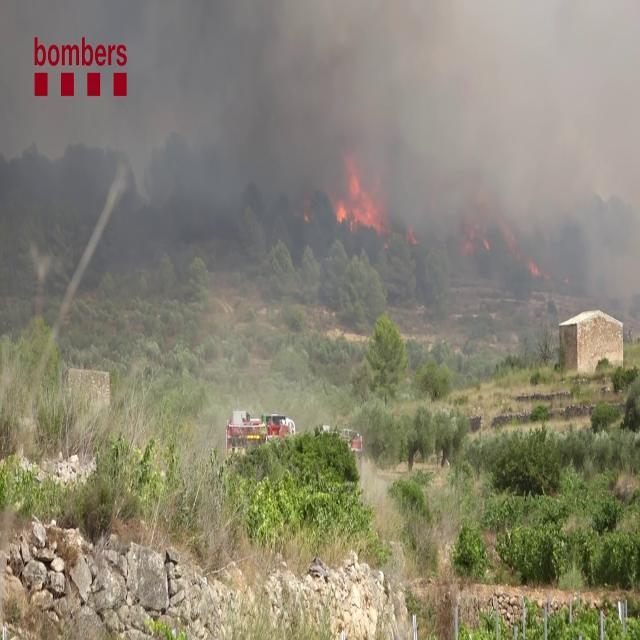Fire: (333, 160, 383, 233)
Smoke: (130, 1, 638, 354)
